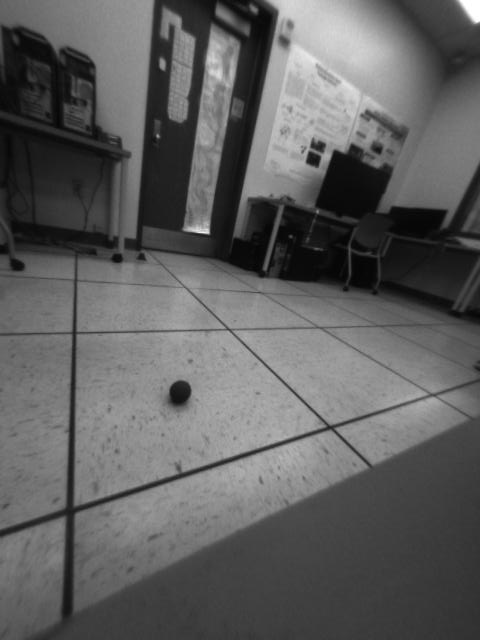dogtoy: (166, 372, 196, 408)
